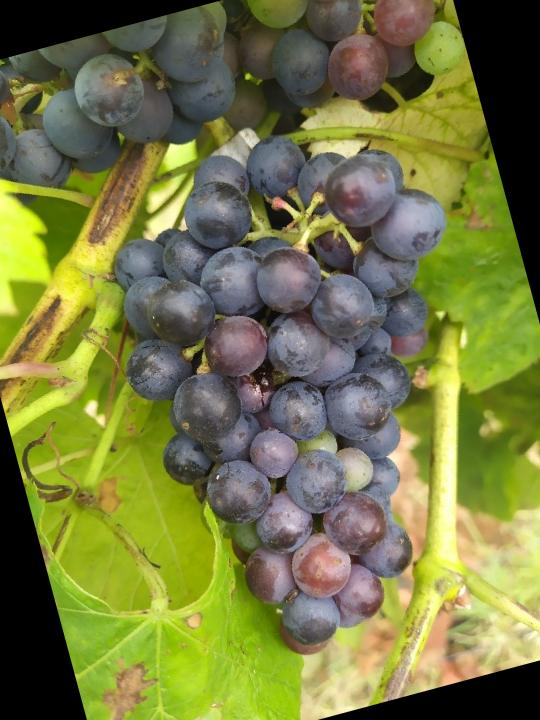grape: (68, 92, 540, 689)
